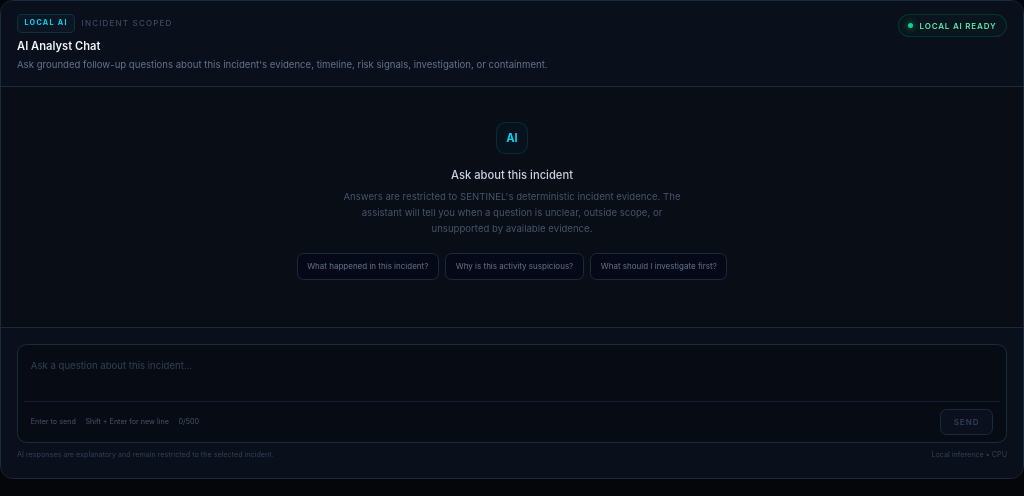
Scenario: AIAnalystChat › loads a starter question into the chat composer
Click the button "Why is this activity suspicious?": point(515, 266) [445,253,584,280]
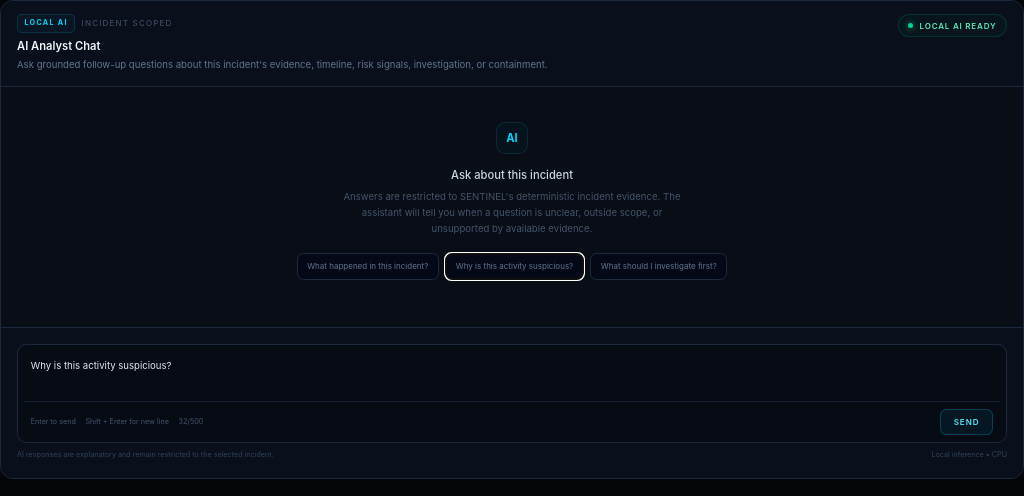
Check: the text box with placeholder "Ask a question about this incident..." holds "Why is this activity suspicious?", box [24,351,1000,396]
